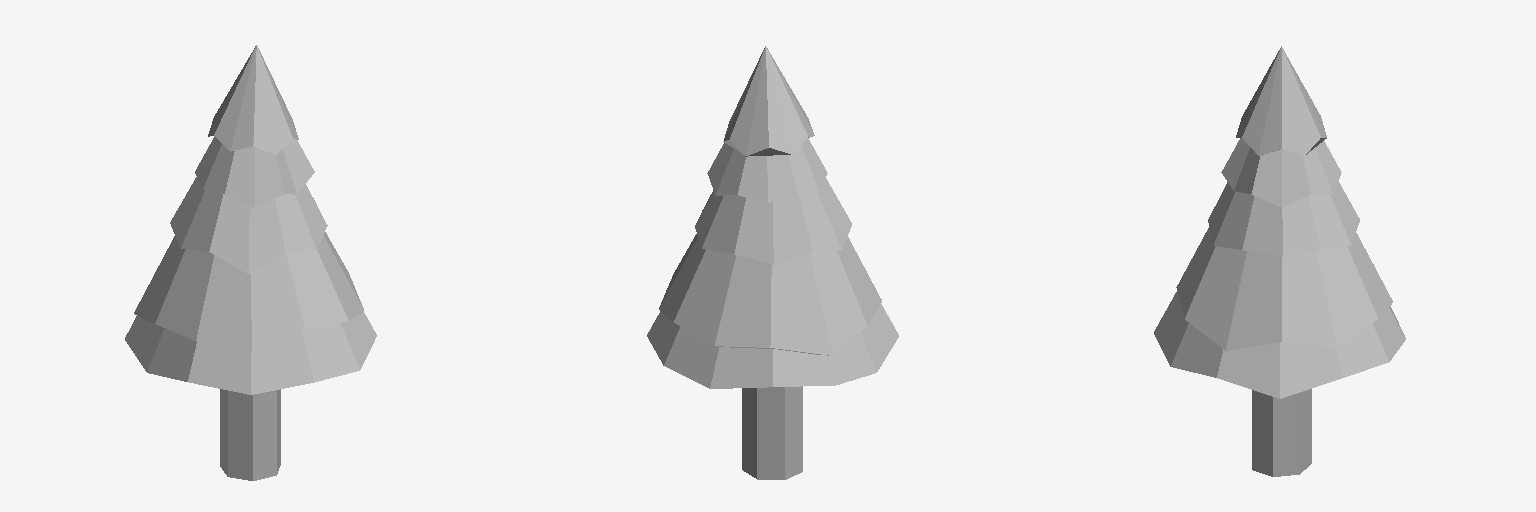
The model's file is pine_tree.obj.
3 renders of one model, left to right at view 1: azimuth 30°, elevation 25°; view 2: azimuth 150°, elevation 25°; view 3: azimuth 270°, elevation 25°, orthographic.
Parts seen in each view (by area): view 1: blad1.002_Cone.002; view 2: blad1.002_Cone.002; view 3: blad1.002_Cone.002.
Part boxes in pixels (x1,y1,x2,y2): blad1.002_Cone.002: (125, 45, 376, 480); blad1.002_Cone.002: (647, 46, 898, 479); blad1.002_Cone.002: (1154, 46, 1405, 476).
Bounding box in the file's own units: 7.98 × 14.74 × 8.02.